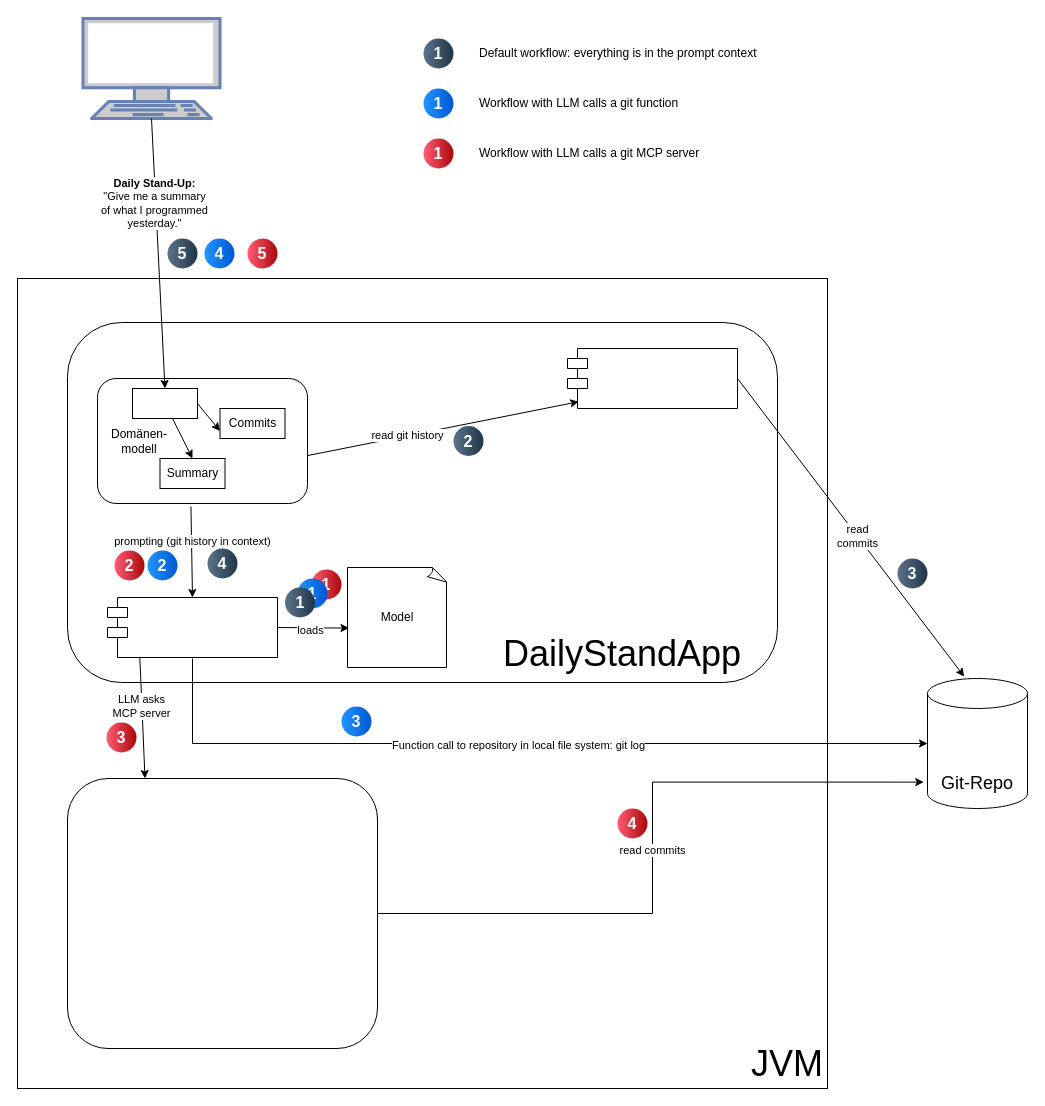
Image size: 1045x1106. Some labels were removed from this diagram. The shapes that lost their labels are listed below. From the top down, each one's centre as x and y in pixels, then its label:
[652,378]: Git Library
[165,403]: History
[192,627]: AI Engine
[222,913]: MCP Server
